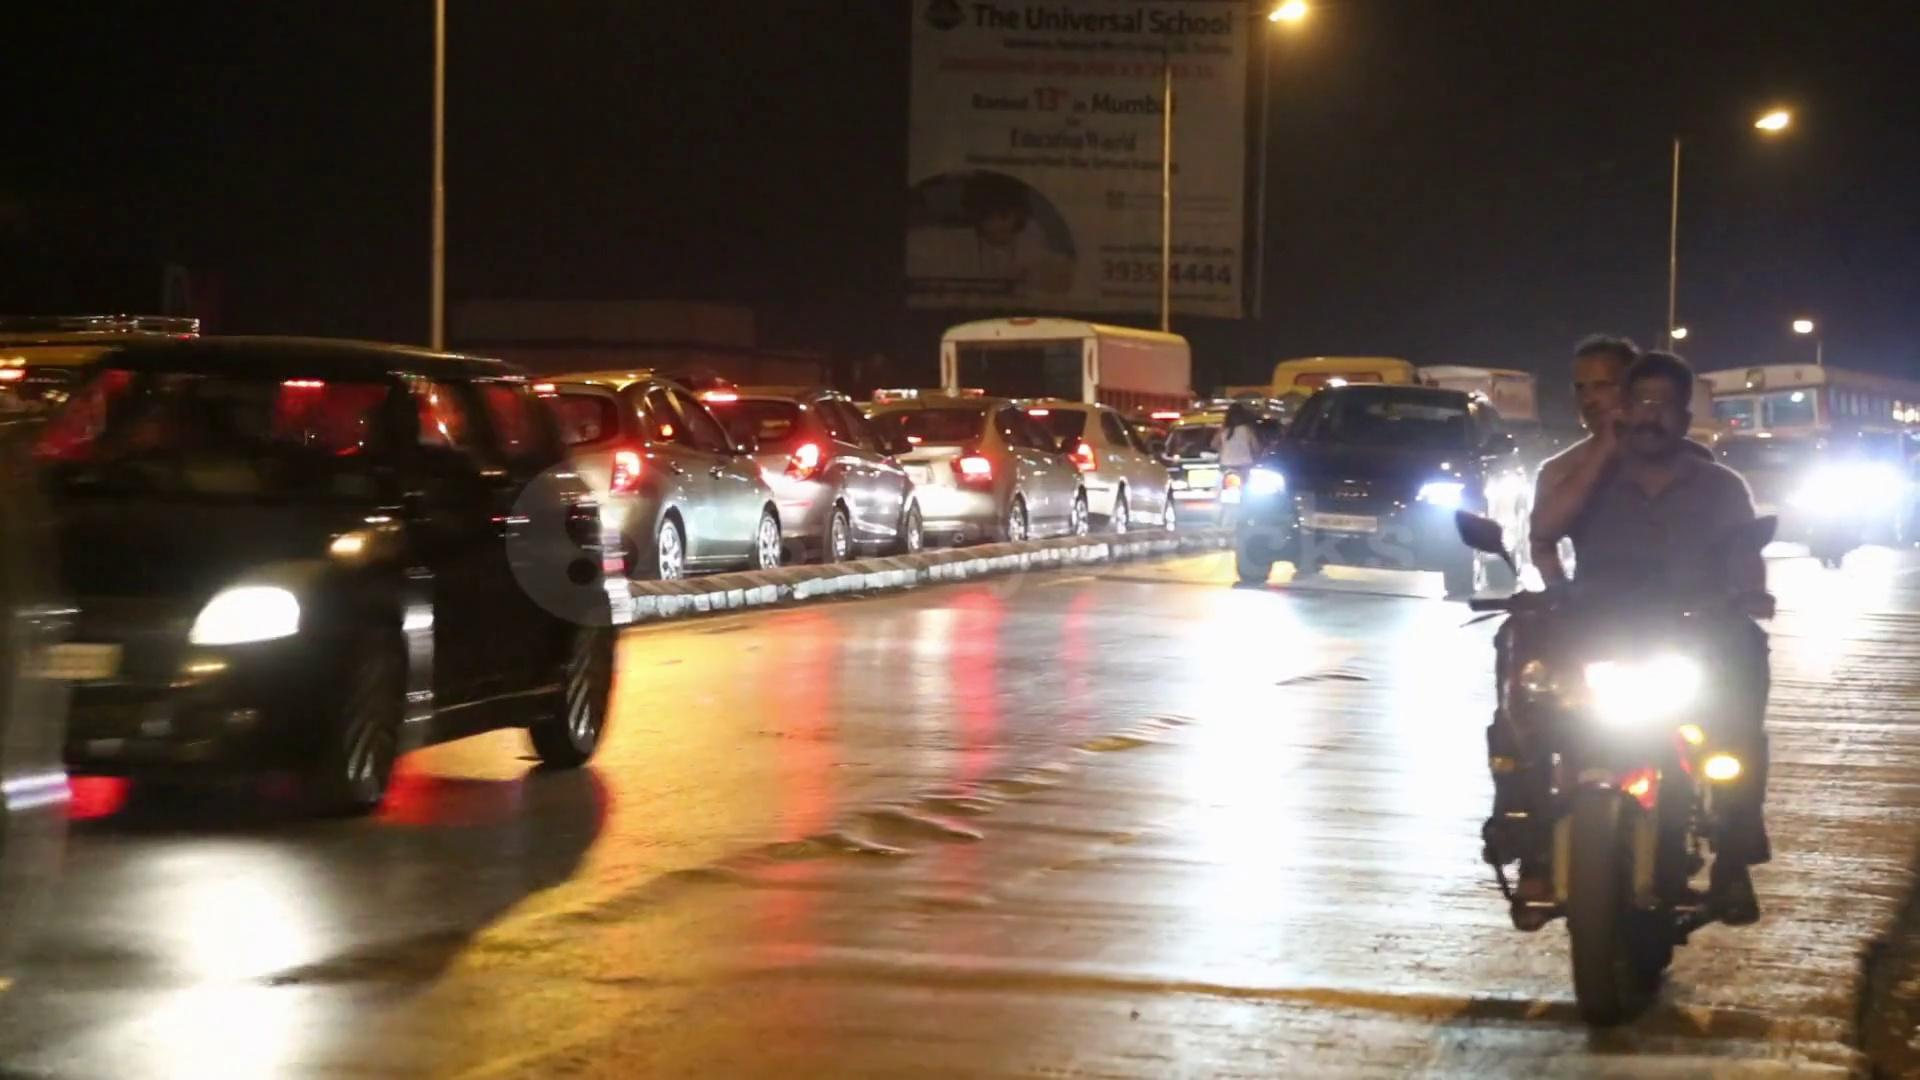rider: (1488, 345, 1776, 928)
without_helmate: (1617, 357, 1701, 459)
